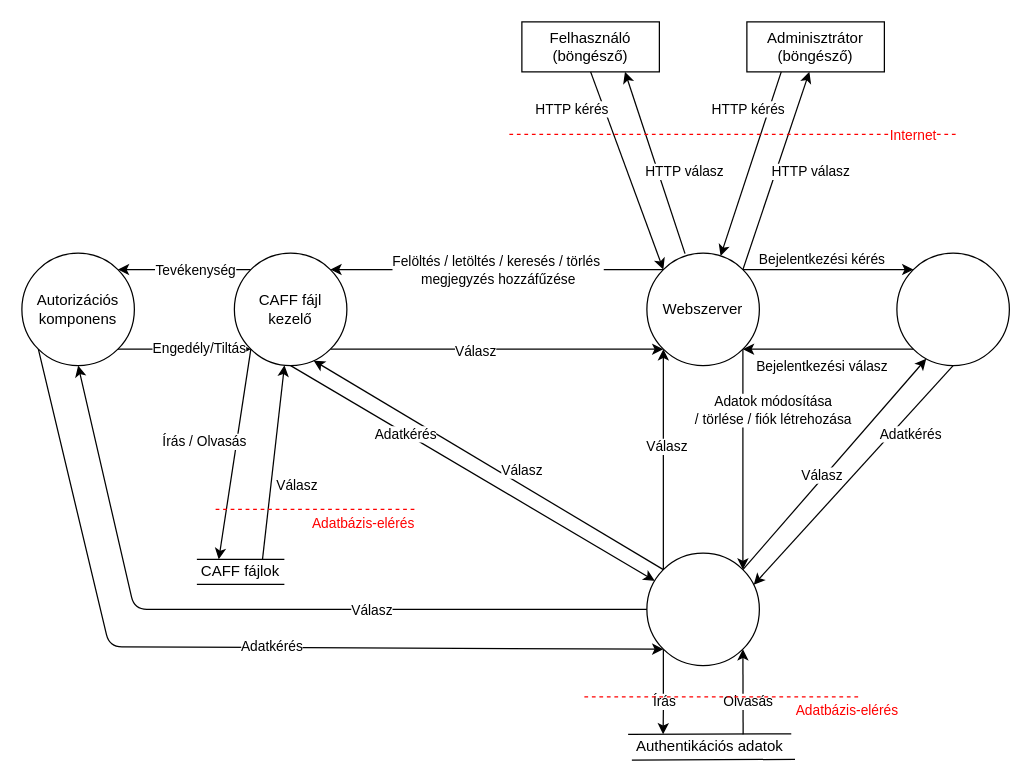
This 1031x784 diagram has some shape labels left out. Each missing label, with the box of its shape:
Autentikációs adatkezelő: (646, 552, 759, 666)
Autentikációs komponens: (896, 252, 1009, 366)
